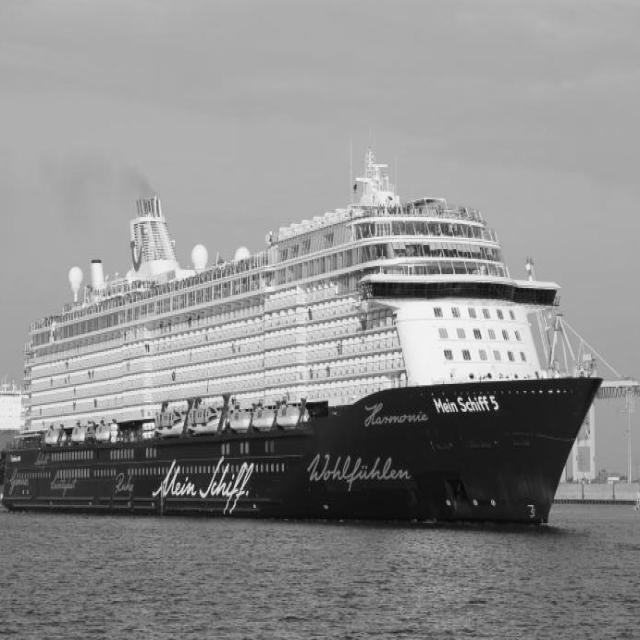cruises: (1, 147, 605, 542)
